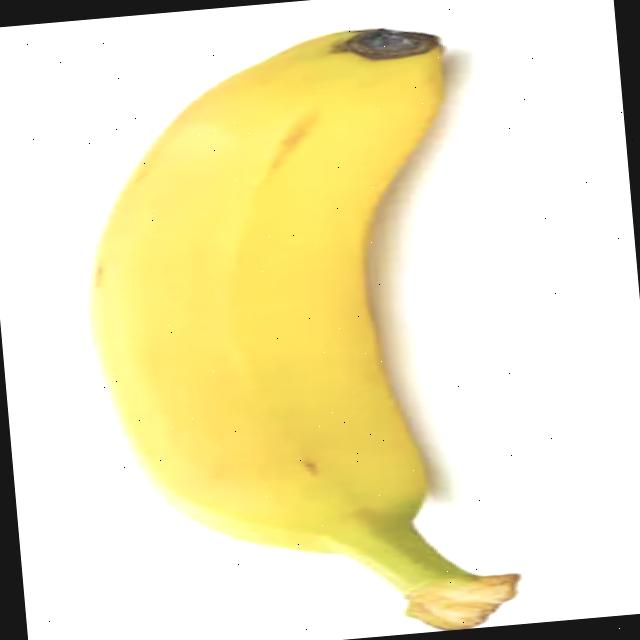banana: (61, 13, 558, 640)
